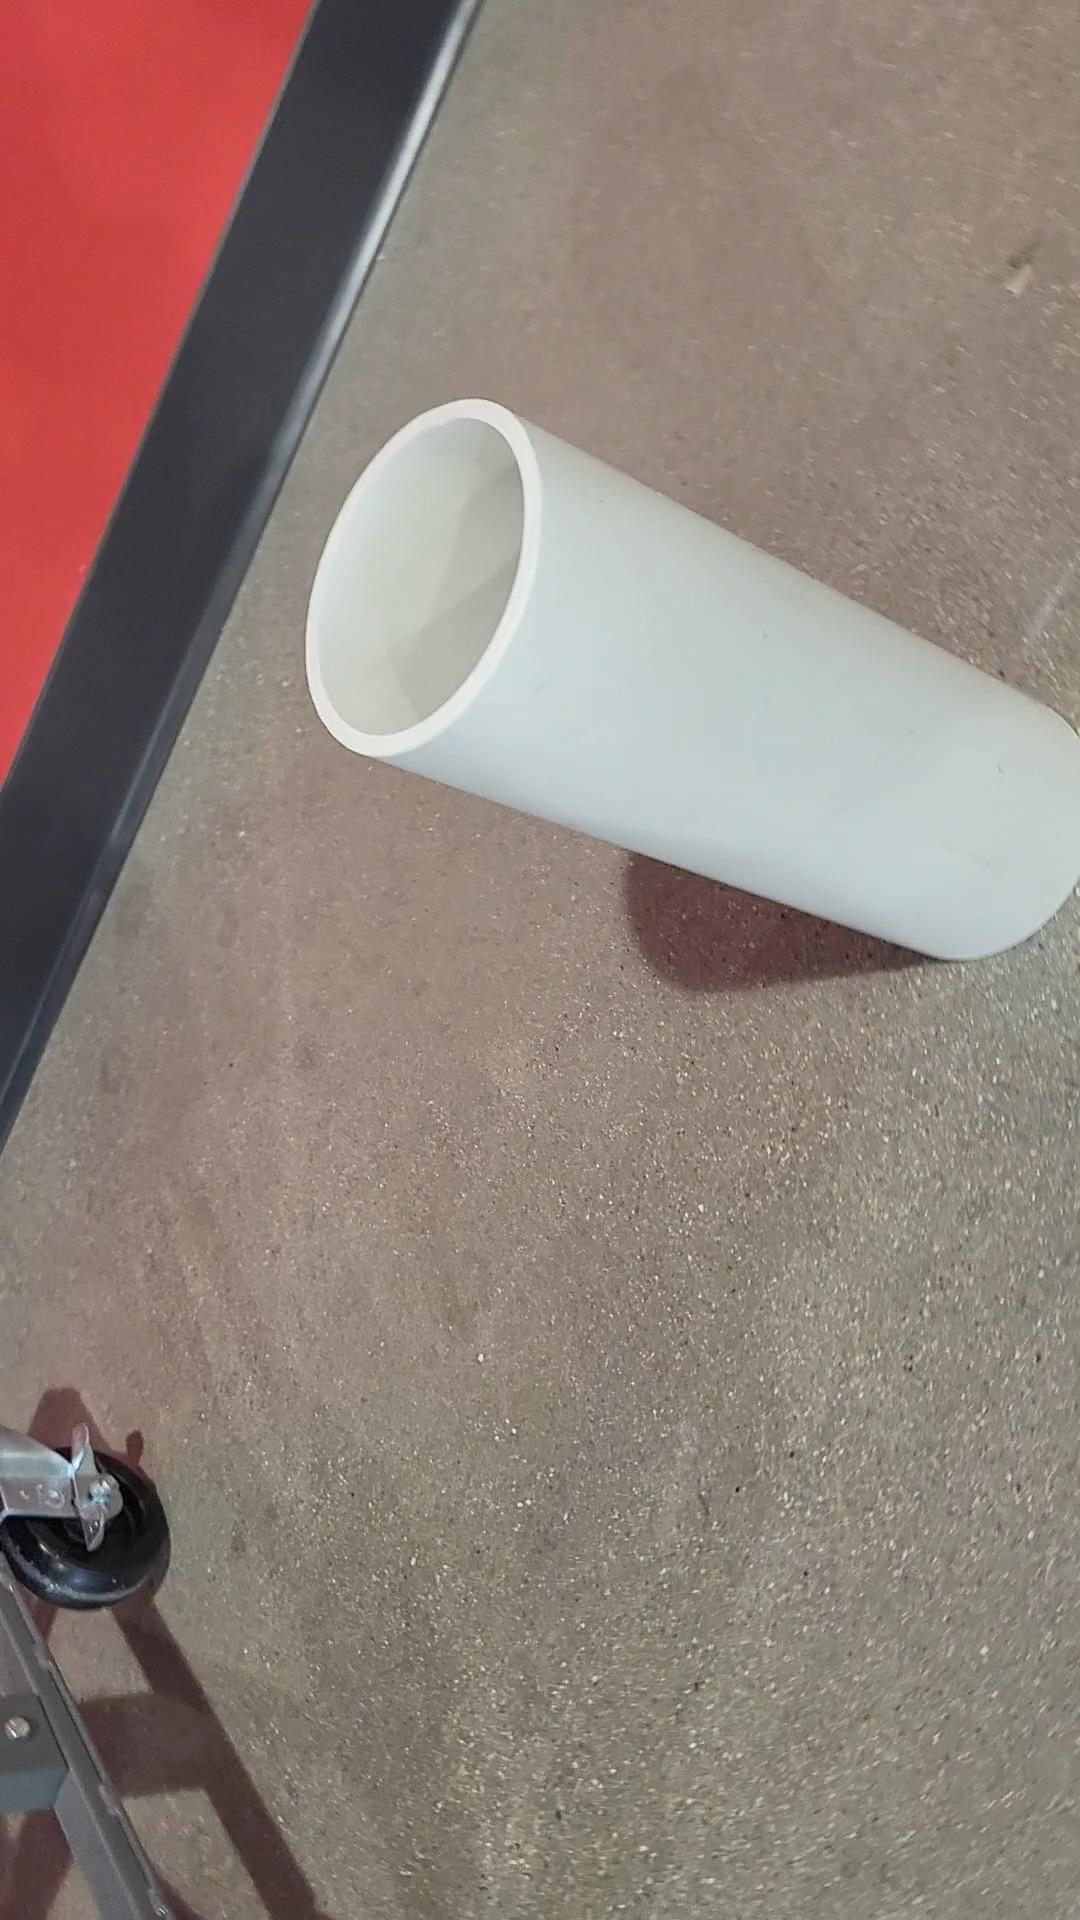coral: (290, 390, 1080, 964)
